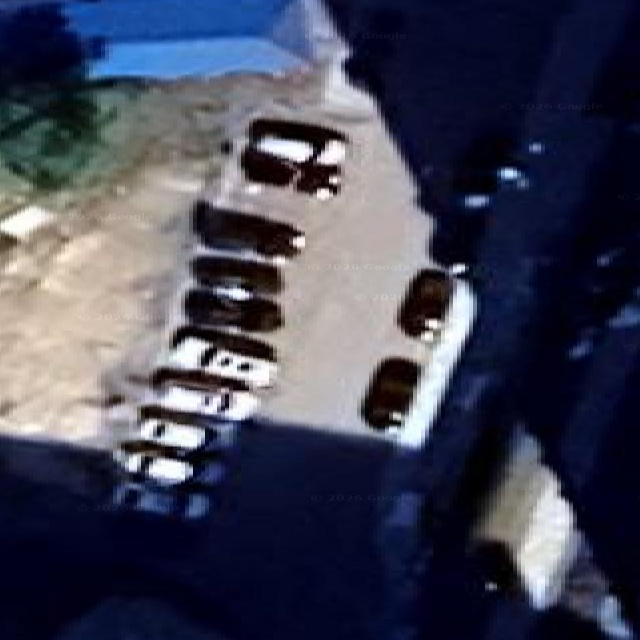car: (240, 118, 347, 198), (192, 200, 304, 261), (169, 326, 276, 387), (452, 134, 524, 209), (137, 398, 237, 449), (114, 447, 224, 487), (184, 288, 282, 331), (361, 358, 419, 430), (121, 418, 229, 456), (397, 269, 454, 341), (156, 380, 258, 420), (111, 481, 209, 520), (190, 255, 282, 294), (469, 541, 524, 594), (150, 366, 248, 391)
